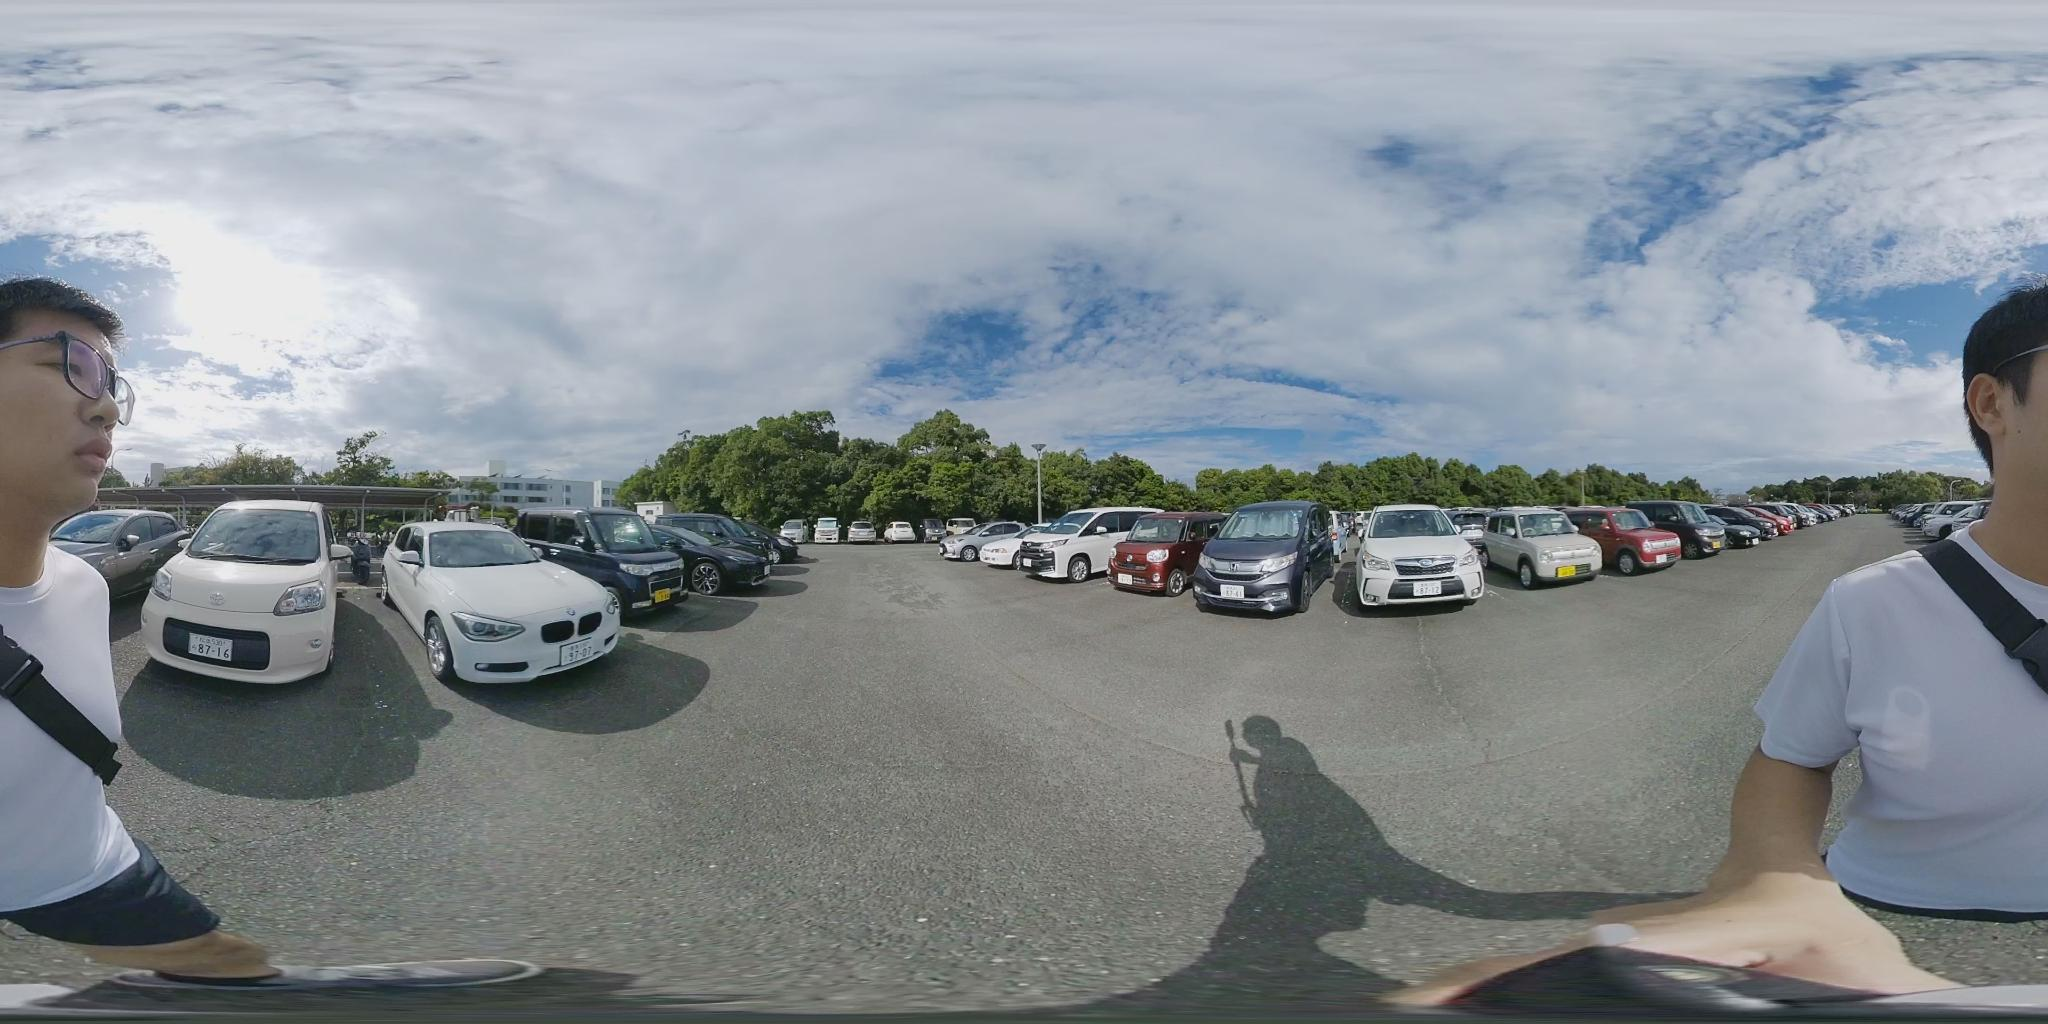car: (379, 519, 627, 686), (146, 494, 332, 694), (512, 509, 704, 607), (1187, 507, 1331, 619), (1352, 503, 1482, 613), (643, 511, 799, 589), (1015, 508, 1185, 580), (1463, 508, 1604, 589), (54, 509, 180, 580), (1552, 507, 1678, 576), (1625, 502, 1725, 560), (1686, 508, 1776, 550), (940, 521, 1029, 563), (1893, 500, 1983, 536), (1718, 504, 1791, 538)
